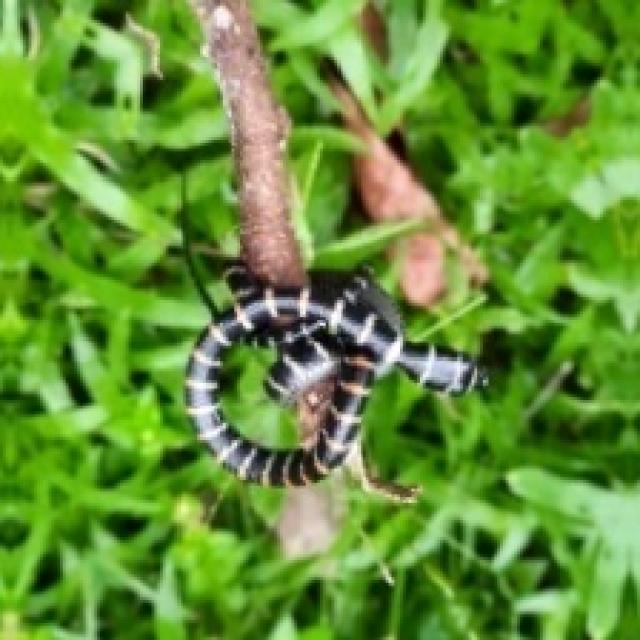paradise tree snake: (186, 263, 480, 483)
